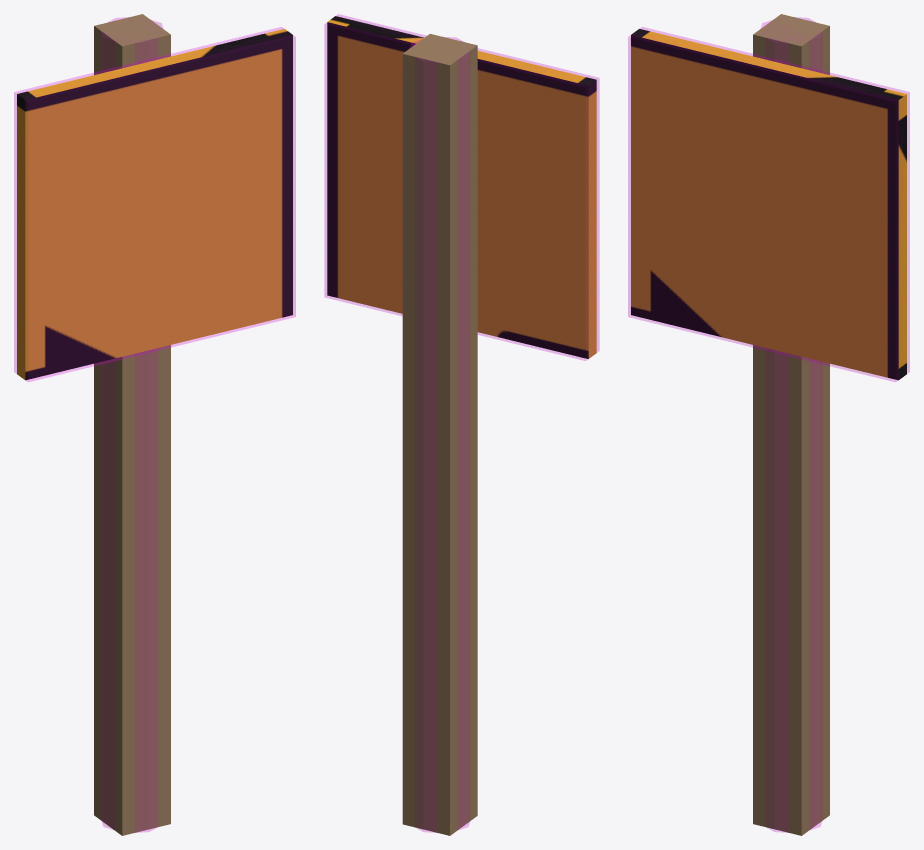
Rendered from arrow_straight.dae.
The picture shows the model from 3 angles, left to right: view 1: azimuth 30°, elevation 25°; view 2: azimuth 150°, elevation 25°; view 3: azimuth 330°, elevation 25°; orthographic projection. The views are drawn at different scales.
Visible parts, largest first — view 1: sign, Colmesh_sign-1, post, Colmesh_post-1; view 2: post, sign, Colmesh_sign-1, Colmesh_post-1; view 3: sign, Colmesh_sign-1, post, Colmesh_post-1.
Boxes of the visible parts, x1,y1,x2,y2 form: sign: (17,29,292,380); Colmesh_sign-1: (14,27,295,381); post: (94,14,170,835); Colmesh_post-1: (102,17,162,832); post: (402,34,477,835); sign: (327,16,596,358); Colmesh_sign-1: (324,14,599,360); Colmesh_post-1: (410,37,469,832); sign: (631,29,906,380); Colmesh_sign-1: (628,27,909,381); post: (753,14,829,835); Colmesh_post-1: (761,17,821,832).
Size of the model in its own units: 0.55 by 0.165 by 1.55.
3 materials, 1 textured.
